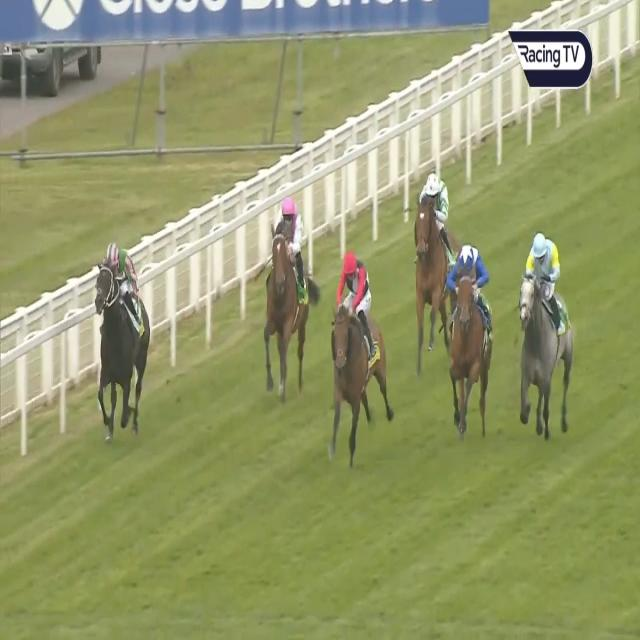horses-racing: (515, 224, 578, 436), (331, 250, 388, 454), (265, 198, 320, 393), (98, 241, 148, 444), (401, 162, 456, 332), (448, 241, 491, 426)
